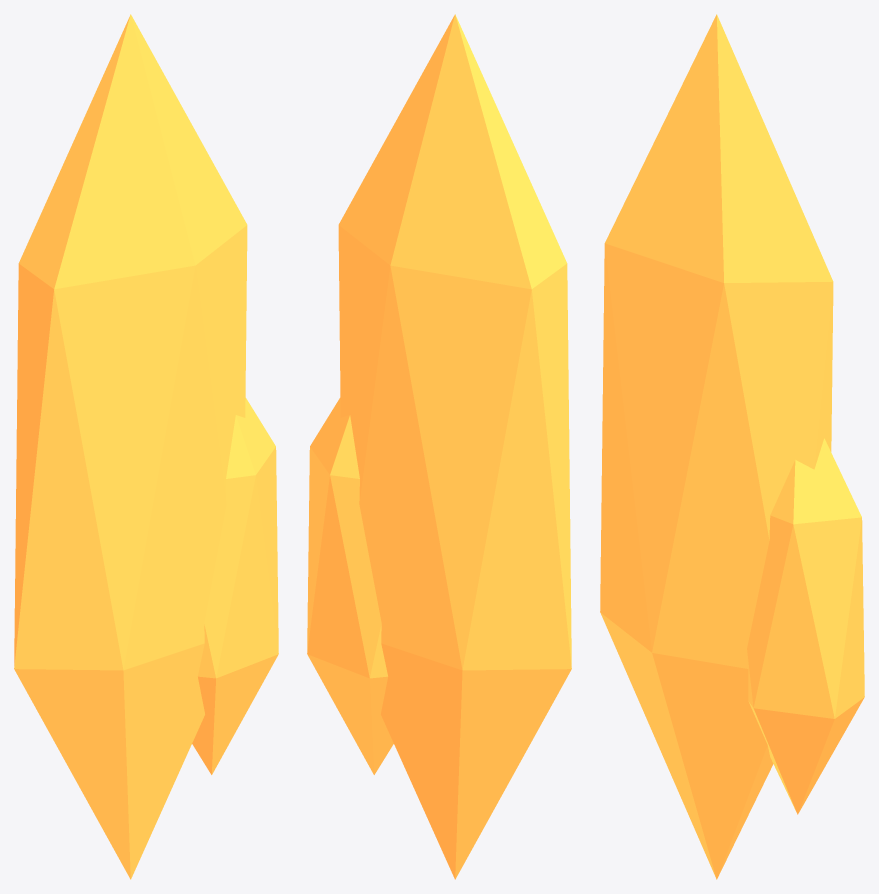
Rendered from fire_flame_b.glb.
3 renders of one model, left to right at view 1: azimuth 30°, elevation 25°; view 2: azimuth 150°, elevation 25°; view 3: azimuth 330°, elevation 25°, orthographic.
Visible parts, largest first — view 1: fire_flame_b; view 2: fire_flame_b; view 3: fire_flame_b.
Part boxes in pixels (x1,y1,x2,y2): fire_flame_b: (14, 14, 278, 879); fire_flame_b: (307, 14, 571, 879); fire_flame_b: (600, 14, 864, 879).
Size of the model in its own units: 0.2912 by 0.92 by 0.1106.
